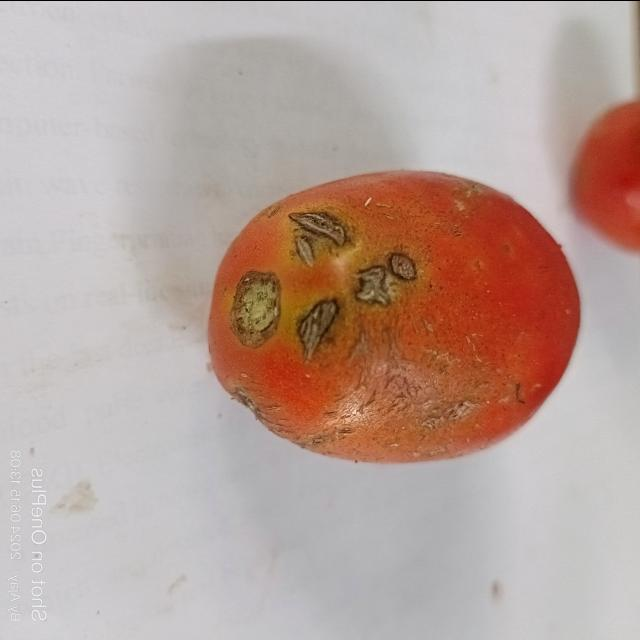Bacterial_Spot: (352, 246, 421, 306), (286, 204, 356, 262), (302, 284, 348, 368)
